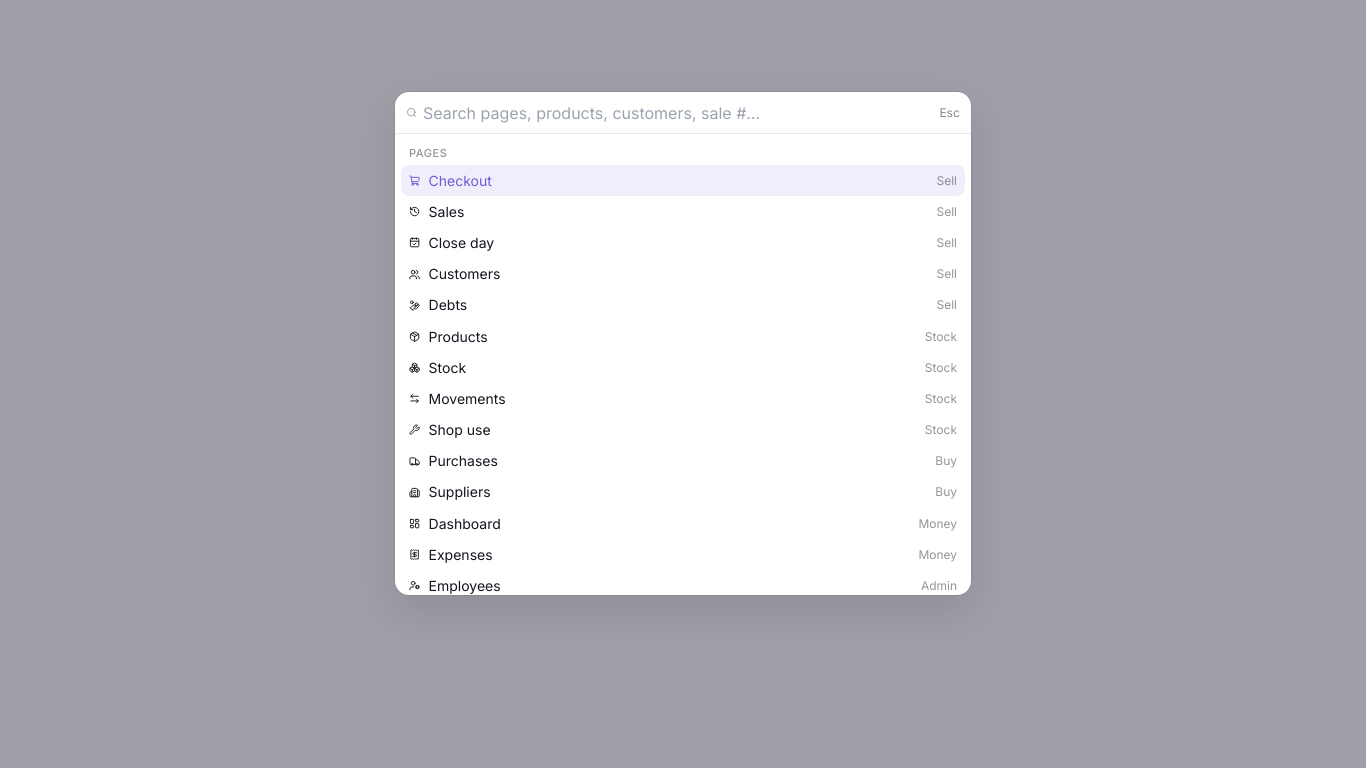
Scenario: CommandPalette › offers to open a sale by its number
Type "#S-841" into the dropdown named "Search or jump to".
click(678, 112); type("#S-841")  # box [423,100,934,124]
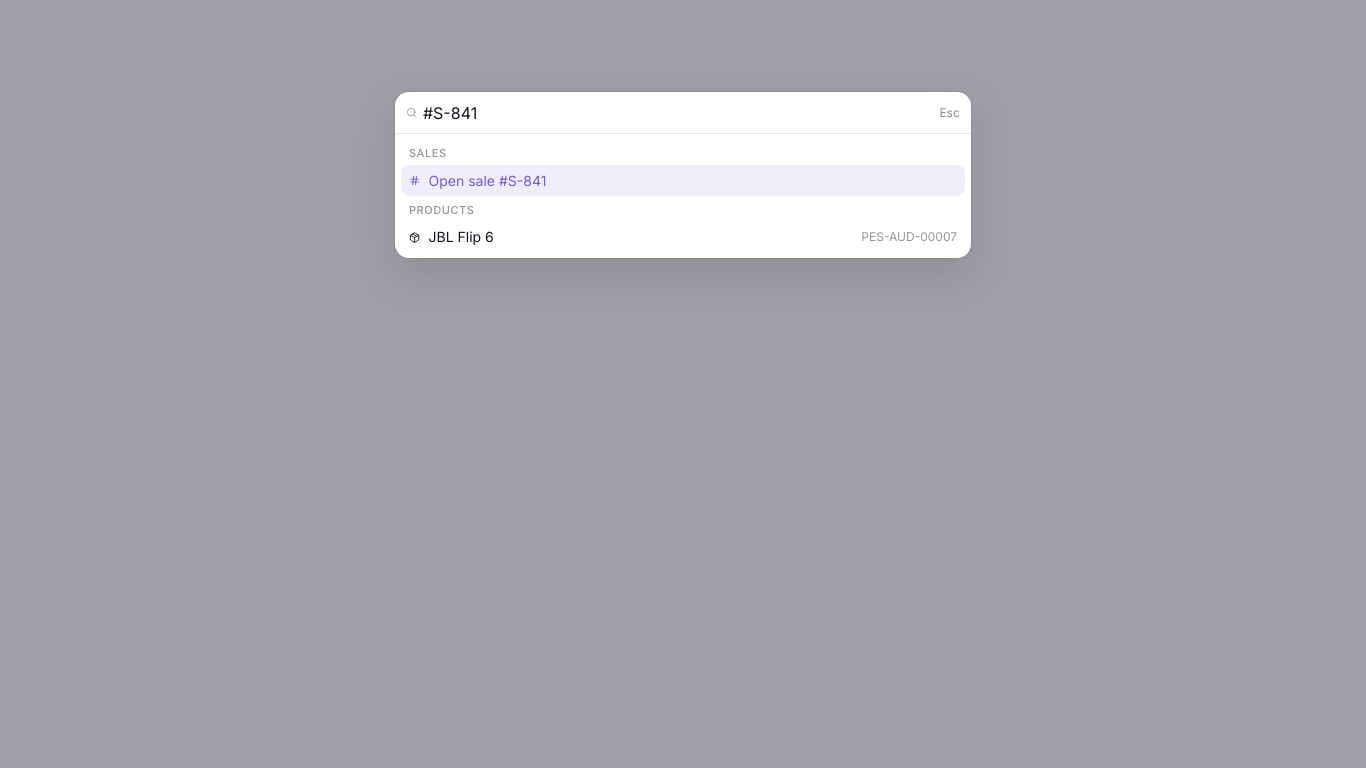
Now the option "Open sale #S-841" is shown, box [401,165,965,196]
